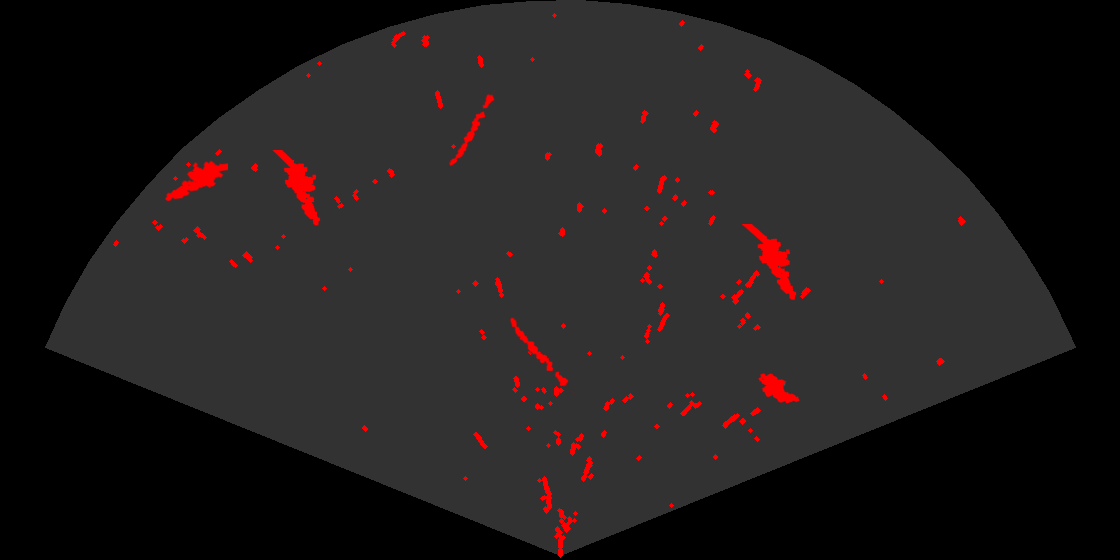AUV: (757, 372, 801, 405)
chain: (508, 316, 575, 397), (447, 89, 497, 168)
frogman: (740, 224, 798, 302), (271, 150, 322, 227), (163, 159, 228, 203)
